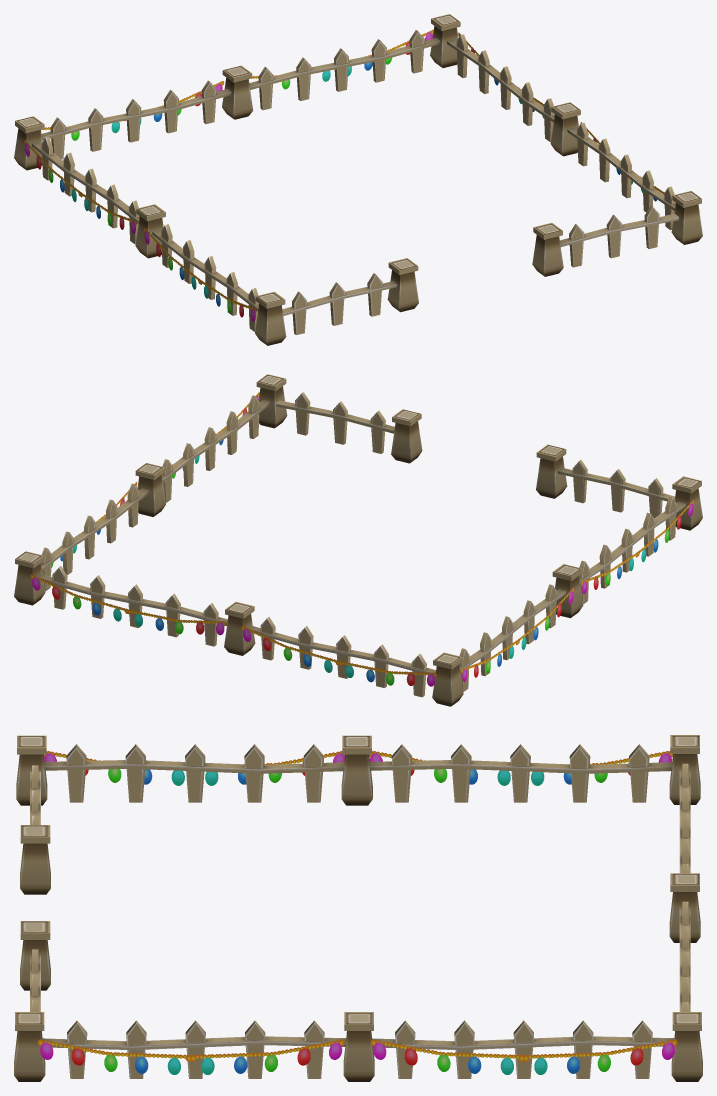
File: Fence_02.FBX
3 views of the same model, one above another, from view 1: azimuth 30°, elevation 25°; view 2: azimuth 150°, elevation 25°; view 3: azimuth 270°, elevation 25° (orthographic). The views are drawn at different scales.
Visible parts, largest first — view 1: Fence_02; view 2: Fence_02; view 3: Fence_02.
Part boxes in pixels (box(x1,y1,x2,y2)): Fence_02: box(14, 14, 702, 345); Fence_02: box(14, 374, 702, 706); Fence_02: box(14, 735, 702, 1081).
Size of the model in its own units: 366 by 34.99 by 368.
